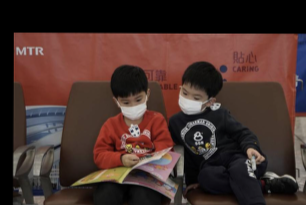with_mask: (117, 92, 147, 121), (177, 86, 207, 115)
